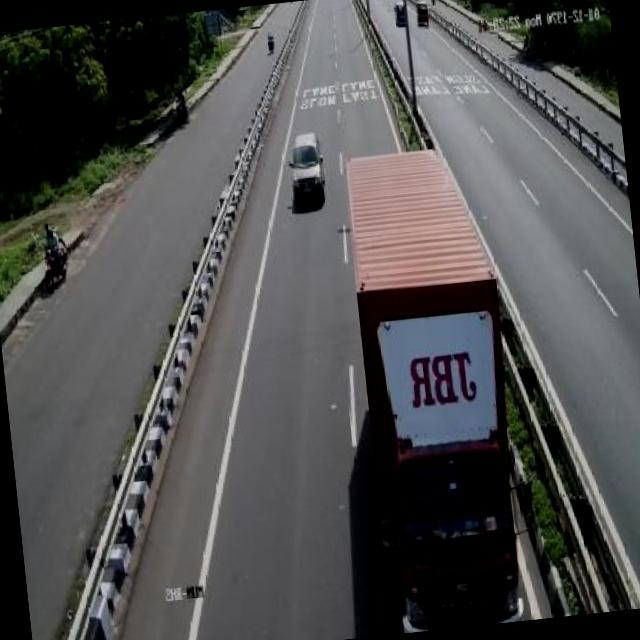car: (282, 126, 328, 213)
